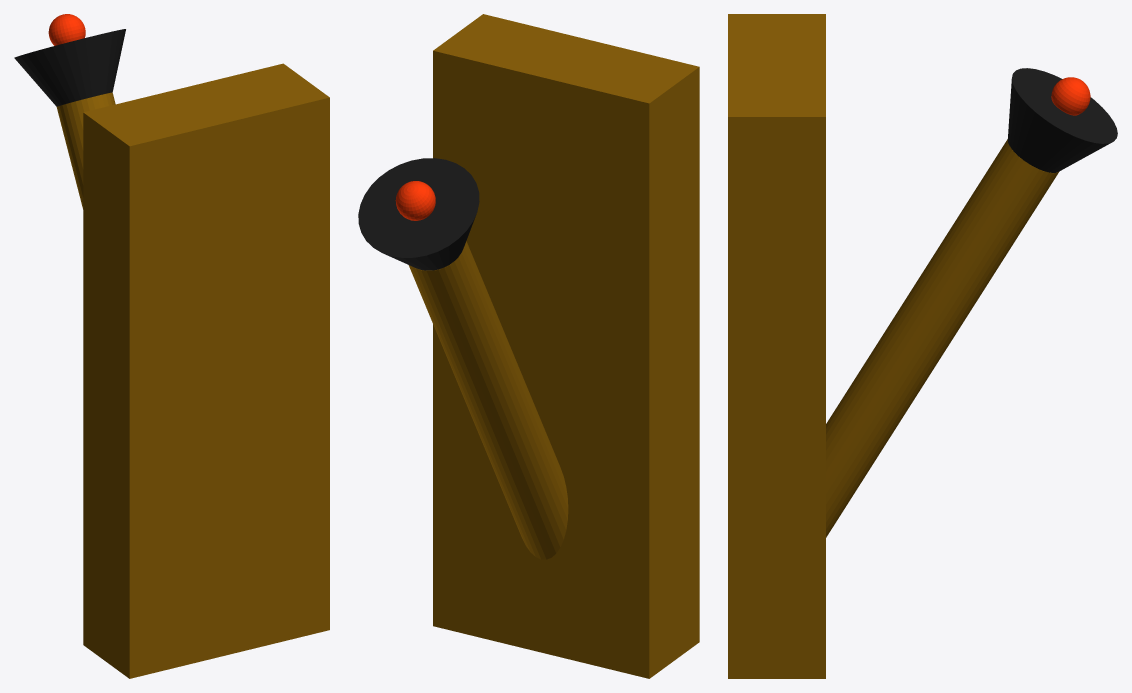
File: Torch.fbx
The picture shows the model from 3 angles, left to right: view 1: azimuth 30°, elevation 25°; view 2: azimuth 150°, elevation 25°; view 3: azimuth 270°, elevation 25°; orthographic projection. The views are drawn at different scales.
Visible parts, largest first — view 1: Cube; view 2: Cube; view 3: Cube.
Boxes of the visible parts, box(x1,y1,x2,y2) form: Cube: box(14, 14, 329, 678); Cube: box(358, 14, 699, 678); Cube: box(728, 14, 1117, 678).
Size of the model in its own units: 39.85 by 101 by 63.66.
